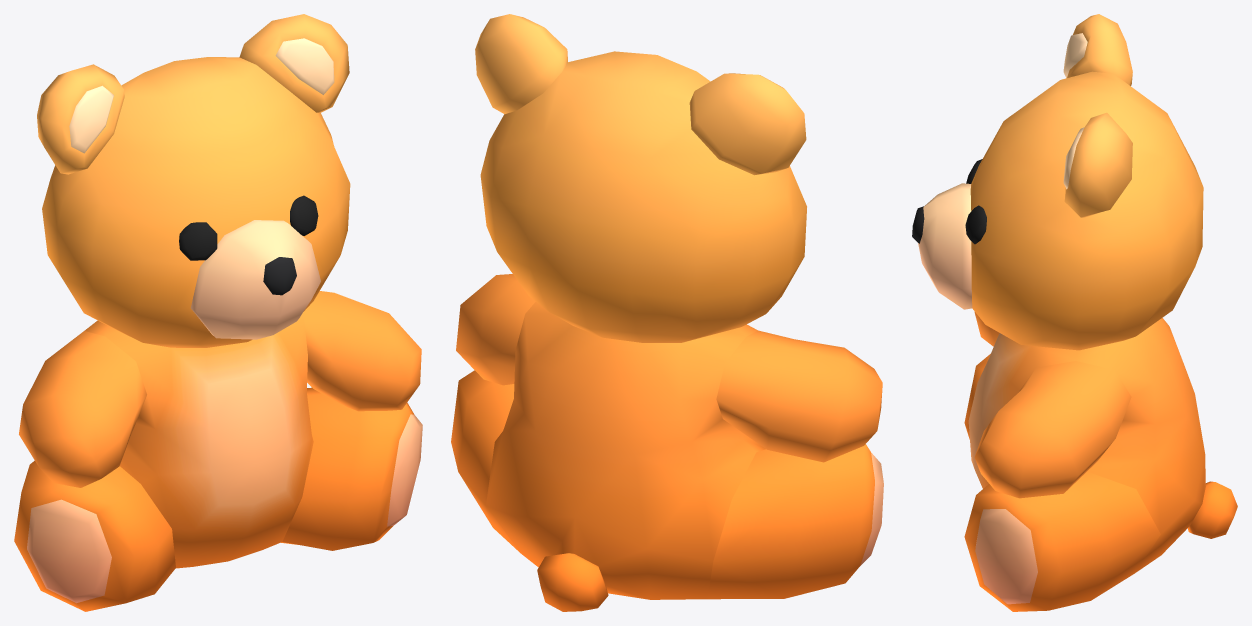
The model's file is bear.glb.
3 views of the same model, side by side, from view 1: azimuth 30°, elevation 25°; view 2: azimuth 150°, elevation 25°; view 3: azimuth 270°, elevation 25° (orthographic). The views are drawn at different scales.
Parts seen in each view (by area): view 1: Bear_01; view 2: Bear_01; view 3: Bear_01.
Boxes of the visible parts, left/top/right/bottom form: Bear_01: left=14, top=14, right=422, bottom=611; Bear_01: left=451, top=14, right=883, bottom=611; Bear_01: left=912, top=14, right=1237, bottom=611.
Bounding box in the file's own units: 0.3281 × 0.4118 × 0.2509.
Materials: 2 (2 with a texture image).
